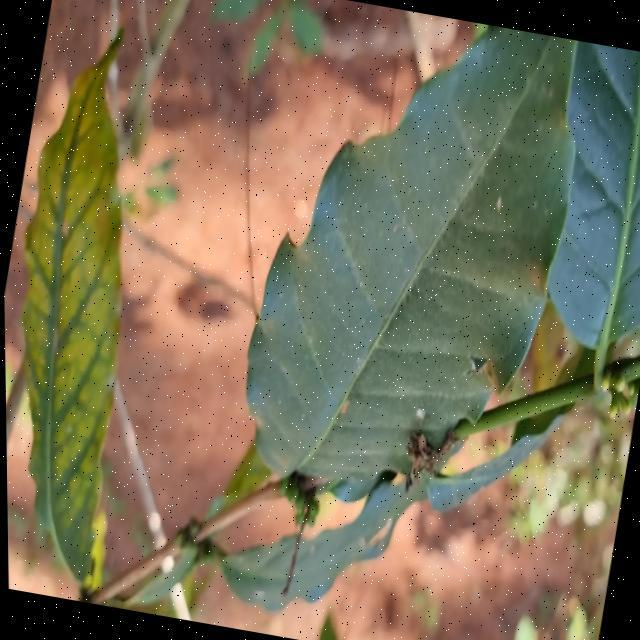leaves: (223, 0, 604, 525), (19, 35, 123, 595)
